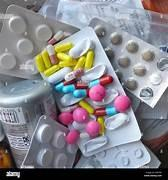pill_Strip: (90, 18, 167, 107), (0, 5, 77, 78), (0, 76, 56, 166), (60, 27, 124, 94), (56, 0, 149, 38), (22, 115, 76, 167), (35, 39, 93, 83), (35, 39, 93, 76), (75, 141, 150, 167), (61, 42, 104, 77), (104, 141, 150, 167), (39, 53, 76, 83), (136, 89, 167, 119), (69, 64, 105, 88), (140, 119, 167, 149), (79, 103, 96, 140), (69, 39, 93, 58), (5, 0, 43, 11), (81, 64, 105, 81), (124, 88, 141, 112), (46, 67, 71, 83), (93, 89, 118, 105), (141, 146, 160, 167), (104, 113, 128, 129), (68, 121, 89, 139), (84, 136, 107, 152), (125, 89, 140, 112), (7, 15, 26, 33), (75, 156, 101, 168), (16, 37, 33, 55), (50, 80, 75, 92), (89, 74, 112, 87), (36, 124, 52, 142), (61, 82, 87, 93), (59, 94, 82, 106), (37, 148, 52, 166), (19, 59, 37, 74), (0, 51, 15, 69), (35, 24, 51, 40), (0, 74, 21, 86), (68, 121, 85, 135), (94, 106, 117, 116), (75, 156, 94, 168), (64, 68, 83, 80), (48, 30, 63, 44), (35, 52, 46, 71), (46, 44, 57, 63), (55, 42, 73, 53), (58, 112, 73, 125), (79, 100, 94, 113), (44, 65, 60, 77), (41, 49, 51, 68), (123, 77, 137, 90), (56, 103, 78, 111), (85, 50, 94, 69), (125, 39, 138, 52), (133, 63, 146, 76), (140, 87, 153, 99), (74, 56, 85, 69), (59, 59, 76, 67), (110, 32, 121, 44), (149, 73, 161, 84), (157, 57, 167, 70), (97, 116, 104, 134), (118, 56, 129, 67), (94, 25, 105, 36), (57, 52, 72, 60), (87, 159, 102, 167), (142, 50, 154, 60), (62, 84, 75, 93), (72, 121, 85, 130), (73, 89, 87, 97), (59, 31, 71, 40), (114, 149, 127, 157), (104, 47, 113, 57), (75, 81, 87, 88), (121, 156, 129, 166), (134, 148, 142, 158), (0, 124, 4, 140), (80, 132, 89, 139), (159, 45, 167, 52), (40, 73, 47, 80), (89, 113, 96, 120), (140, 163, 149, 168), (98, 151, 105, 157), (0, 80, 4, 87)
